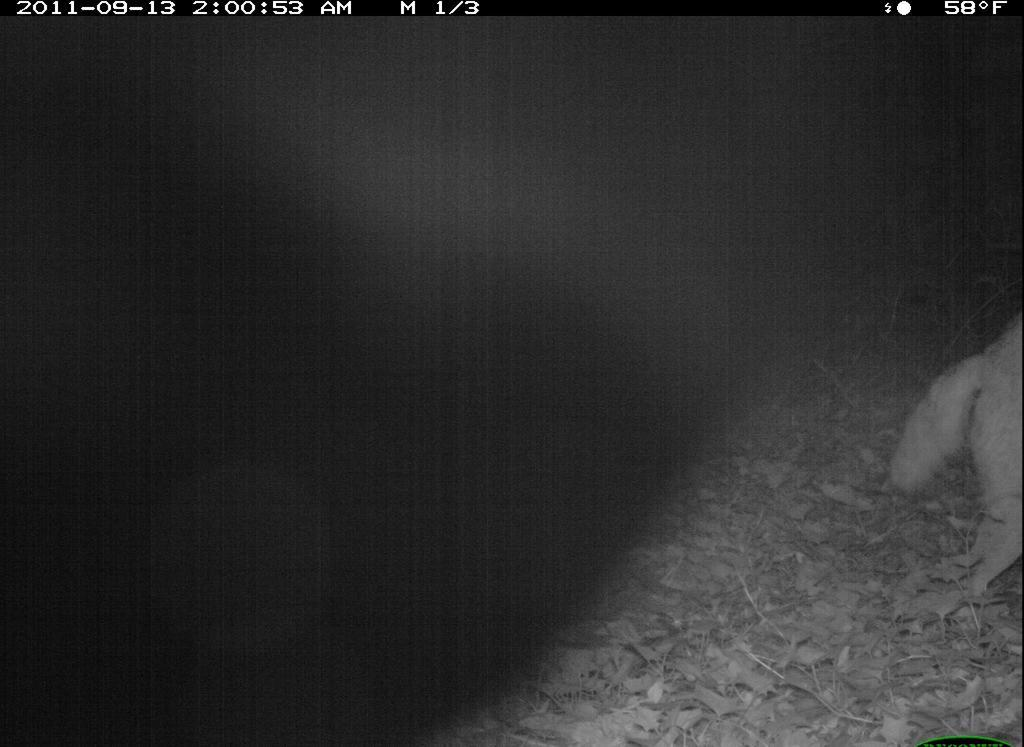coyote: (888, 296, 1016, 596)
